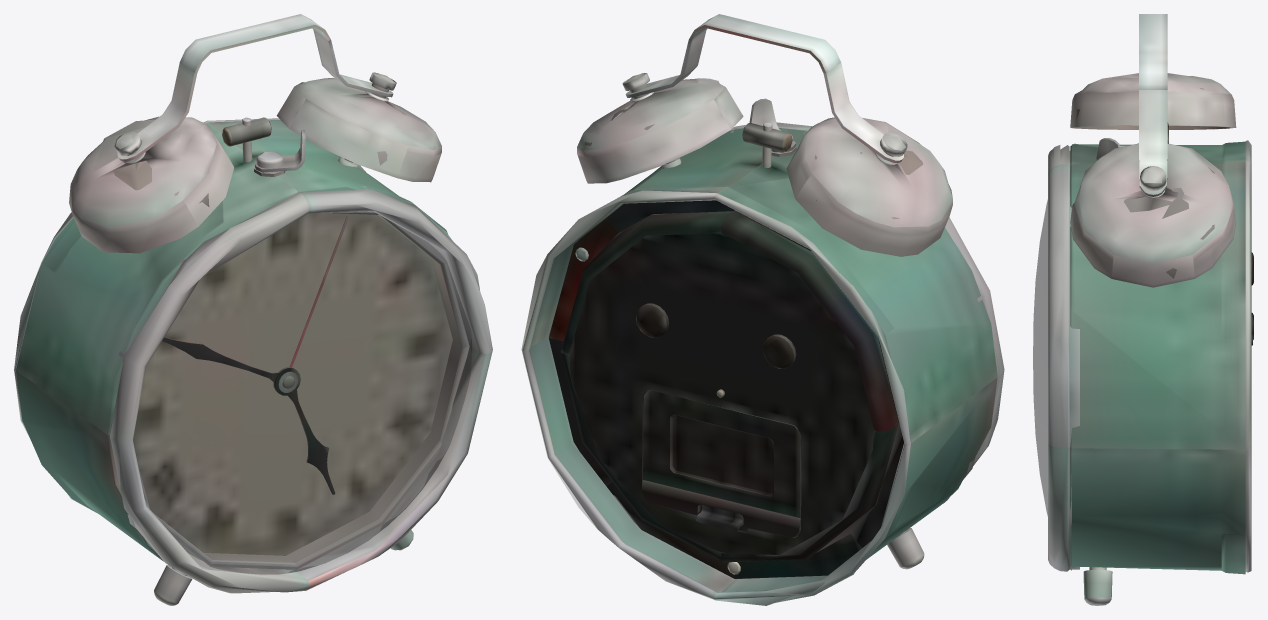
3 renders of one model, left to right at view 1: azimuth 30°, elevation 25°; view 2: azimuth 150°, elevation 25°; view 3: azimuth 270°, elevation 25°, orthographic. The views are drawn at different scales.
Visible parts, largest first — view 1: alarm_clock_01, alarm_clock_01_glass, alarm_clock_01_hour_hand, alarm_clock_01_minute_hand; view 2: alarm_clock_01; view 3: alarm_clock_01, alarm_clock_01_glass.
Boxes of the visible parts, x1,y1,x2,y2 form: alarm_clock_01: (14,14,492,605); alarm_clock_01_glass: (133,211,472,574); alarm_clock_01_hour_hand: (274,368,335,494); alarm_clock_01_minute_hand: (162,337,293,391); alarm_clock_01: (521,14,1004,605); alarm_clock_01: (1048,14,1253,605); alarm_clock_01_glass: (1033,200,1047,515).
Size of the model in its own units: 0.1317 by 0.1721 by 0.0667.
2 materials, 1 textured.
